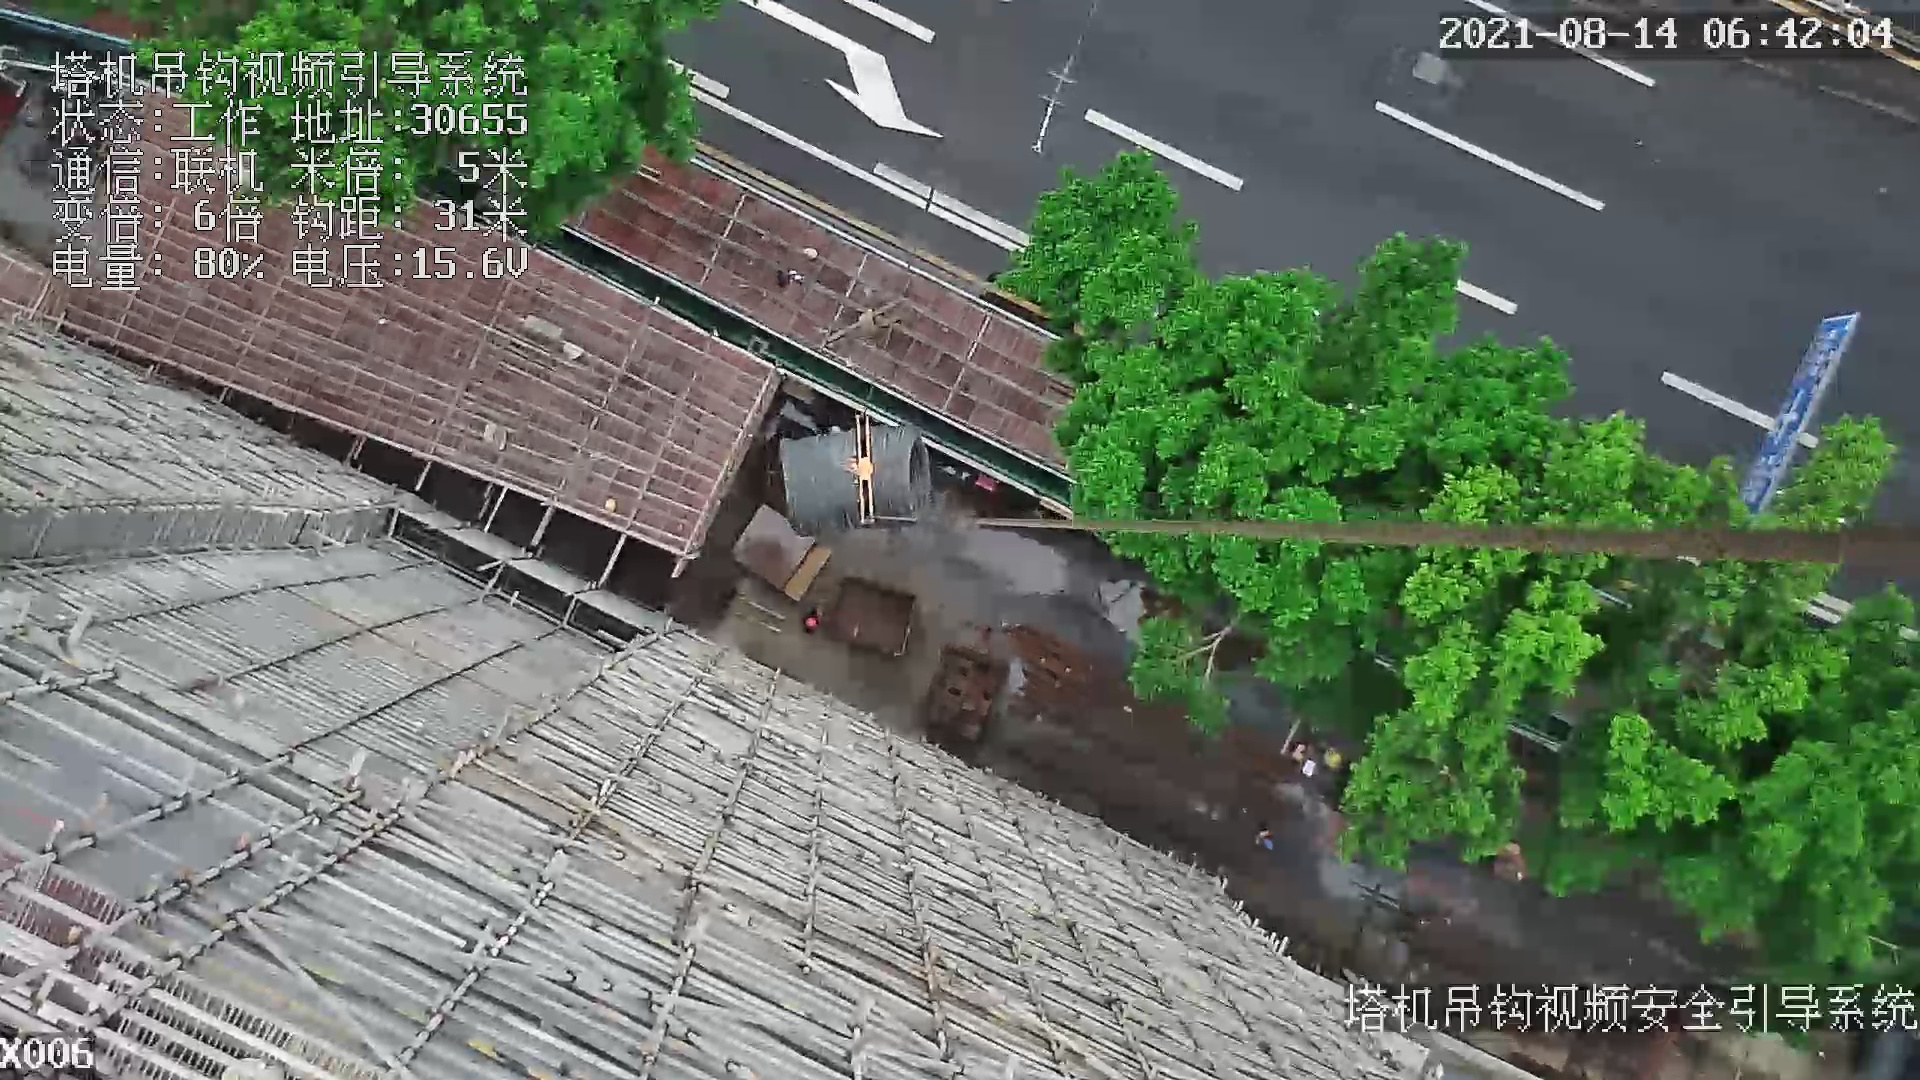hook: (837, 406, 883, 527)
person: (1254, 820, 1275, 857), (804, 604, 822, 637)
